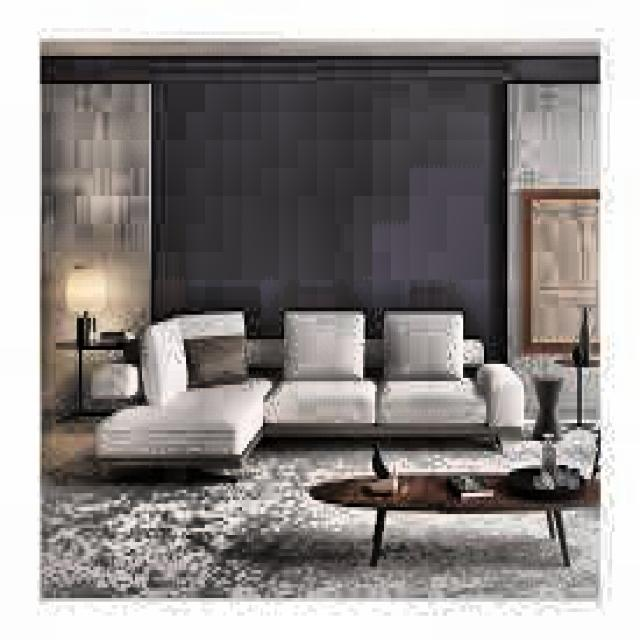sofa: (105, 308, 528, 490)
